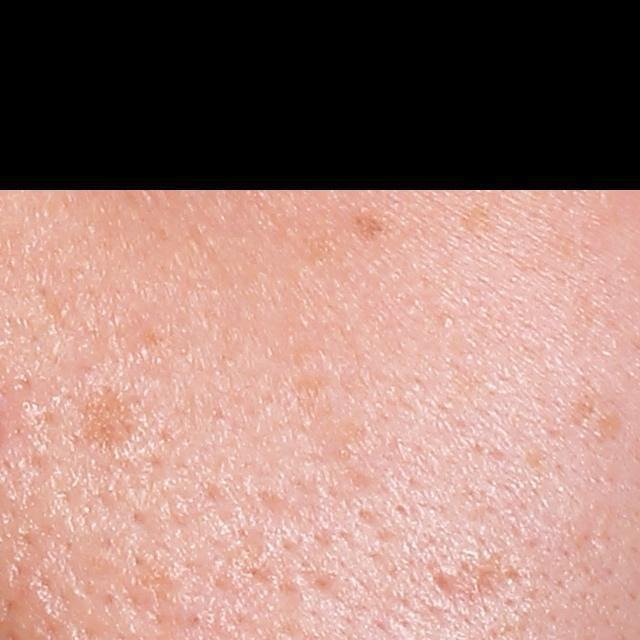atrophic_scar: (432, 556, 512, 610)
melasma: (456, 202, 500, 237), (344, 211, 387, 246)
